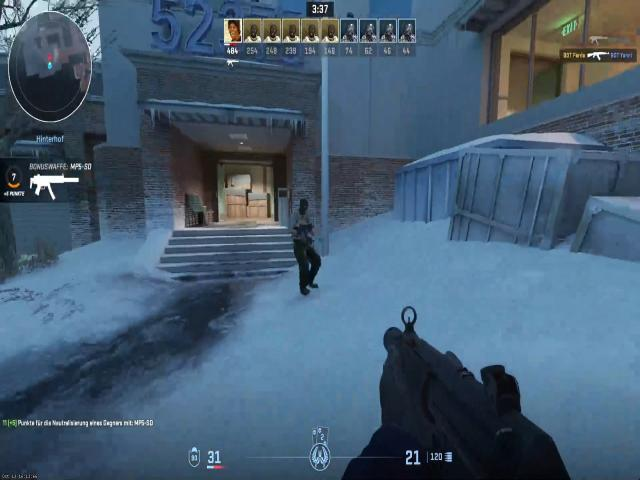T: (290, 195, 319, 264)
T-Head: (296, 195, 310, 218)
